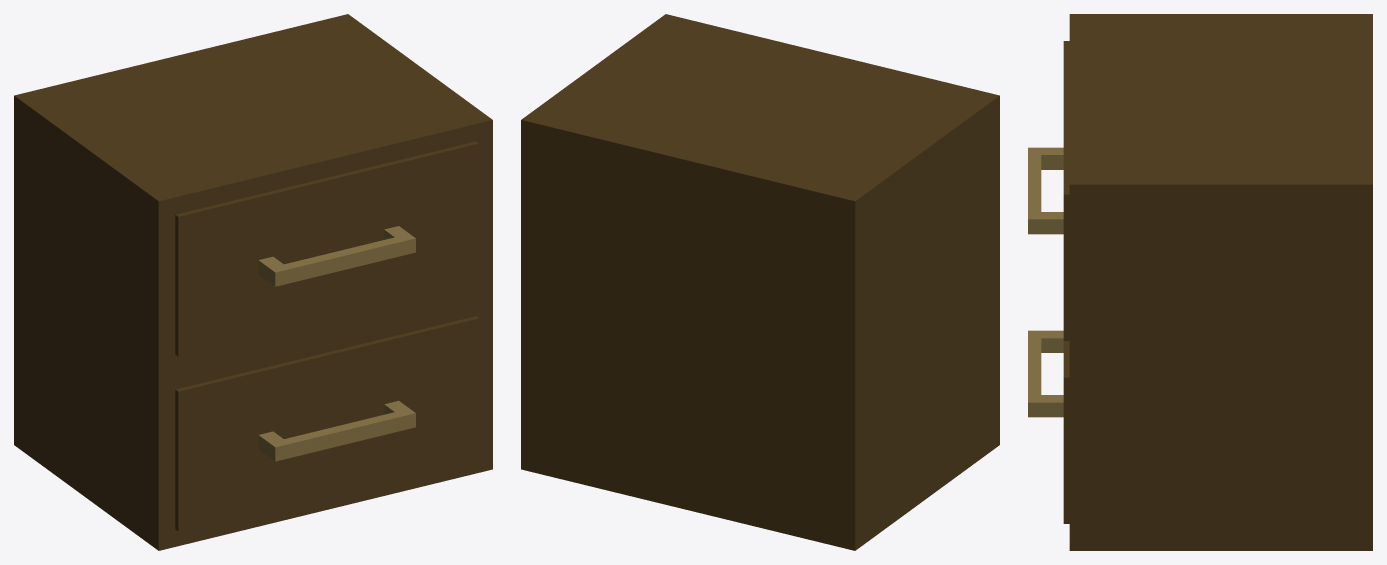
Rendered from mesita-noche-material.fbx.
The picture shows the model from 3 angles, left to right: view 1: azimuth 30°, elevation 25°; view 2: azimuth 150°, elevation 25°; view 3: azimuth 270°, elevation 25°; orthographic projection. The views are drawn at different scales.
Visible parts, largest first — view 1: MesitaNoche; view 2: MesitaNoche; view 3: MesitaNoche.
Part boxes in pixels (x1,y1,x2,y2): MesitaNoche: [14, 14, 492, 550]; MesitaNoche: [521, 14, 999, 550]; MesitaNoche: [1028, 14, 1372, 550].
Bounding box in the file's own units: 48.73 × 48.73 × 41.56.
